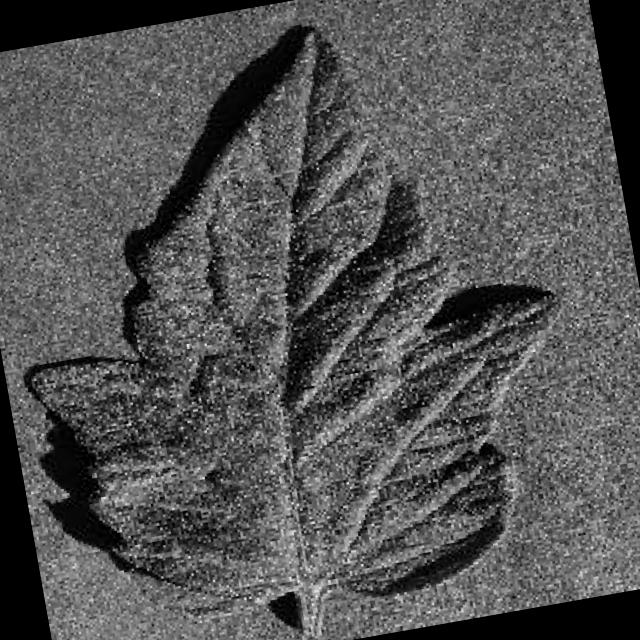healthy: (22, 26, 570, 631)
